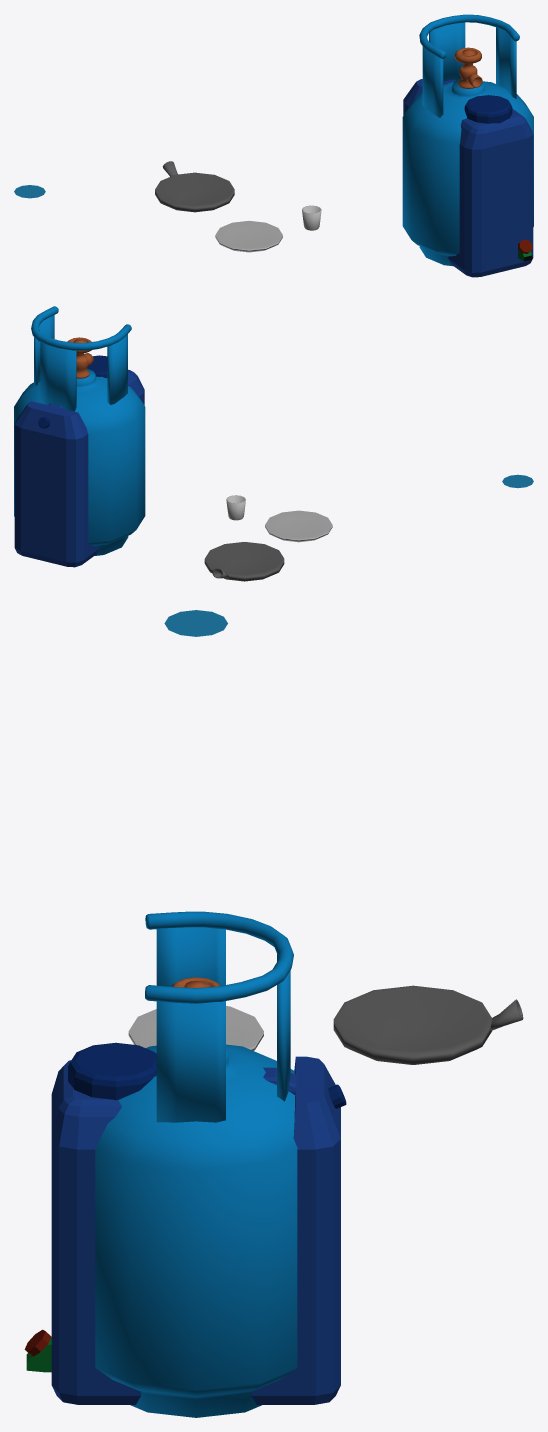
Rendered from Basyo_Props.glb.
3 renders of one model, top to bottom at view 1: azimuth 30°, elevation 25°; view 2: azimuth 150°, elevation 25°; view 3: azimuth 270°, elevation 25°, orthographic. The views are drawn at different scales.
Parts seen in each view (by area): view 1: GASUL, WaterGalon, Cylinder.002, Cylinder, Cylinder.001, GASUL.001; view 2: GASUL, WaterGalon, Cylinder.002, Cylinder, Cylinder.001, GASUL.001; view 3: GASUL, WaterGalon, Cylinder.002, Cylinder, GASUL.001.
Part boxes in pixels (<box>): GASUL: <box>402,14,533,266</box>; WaterGalon: <box>403,79,533,277</box>; Cylinder.002: <box>155,161,234,212</box>; Cylinder: <box>215,220,282,252</box>; Cylinder.001: <box>302,205,321,230</box>; GASUL.001: <box>14,185,45,198</box>; GASUL: <box>14,306,145,555</box>; WaterGalon: <box>14,355,144,567</box>; Cylinder.002: <box>204,542,284,581</box>; Cylinder: <box>265,510,332,542</box>; Cylinder.001: <box>226,495,245,520</box>; GASUL.001: <box>502,474,533,488</box>; GASUL: <box>95,911,297,1417</box>; WaterGalon: <box>24,1042,346,1404</box>; Cylinder.002: <box>333,985,523,1064</box>; Cylinder: <box>128,1006,263,1050</box>; GASUL.001: <box>164,610,227,636</box>.
Bounding box in the file's own units: 8.13 × 3.27 × 3.45.
3 materials, 1 textured.
